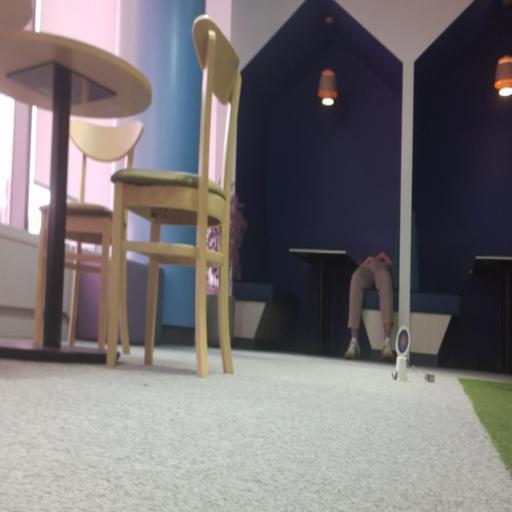target: (396, 326, 410, 357)
